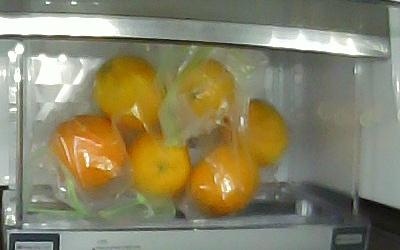orange_vinyl: (50, 115, 125, 189), (92, 55, 164, 130), (189, 144, 255, 216), (219, 98, 286, 165), (129, 132, 190, 195), (178, 59, 234, 120)
